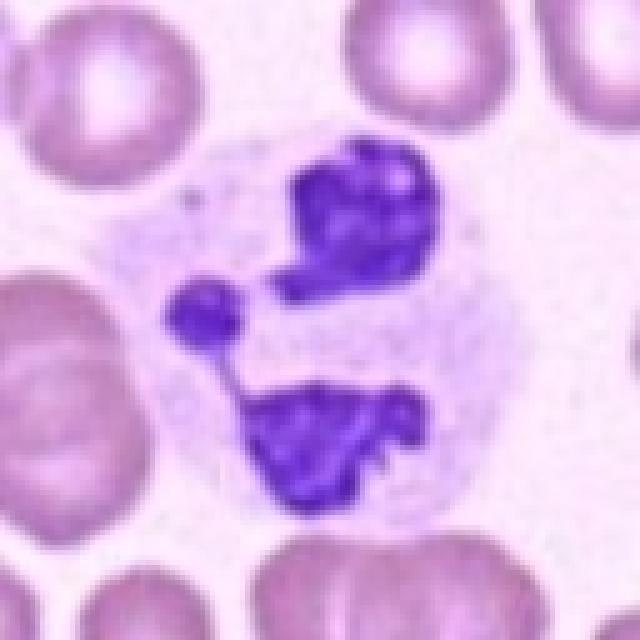neutro: (111, 136, 523, 522)
